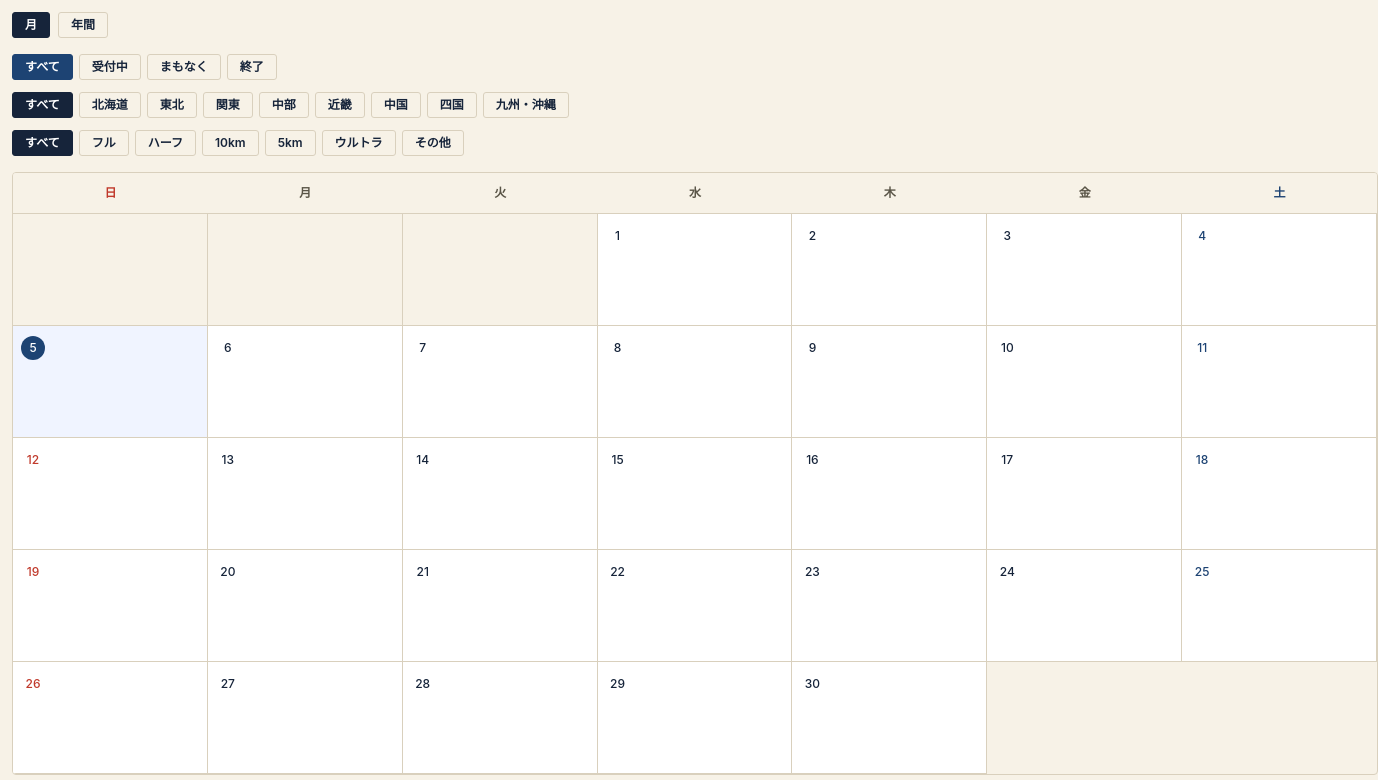
Test case: CalendarView › 年間ビューボタンでYearTimelineに切り替わる
Click the button "年間".
click(83, 25)  # box [58,12,108,38]
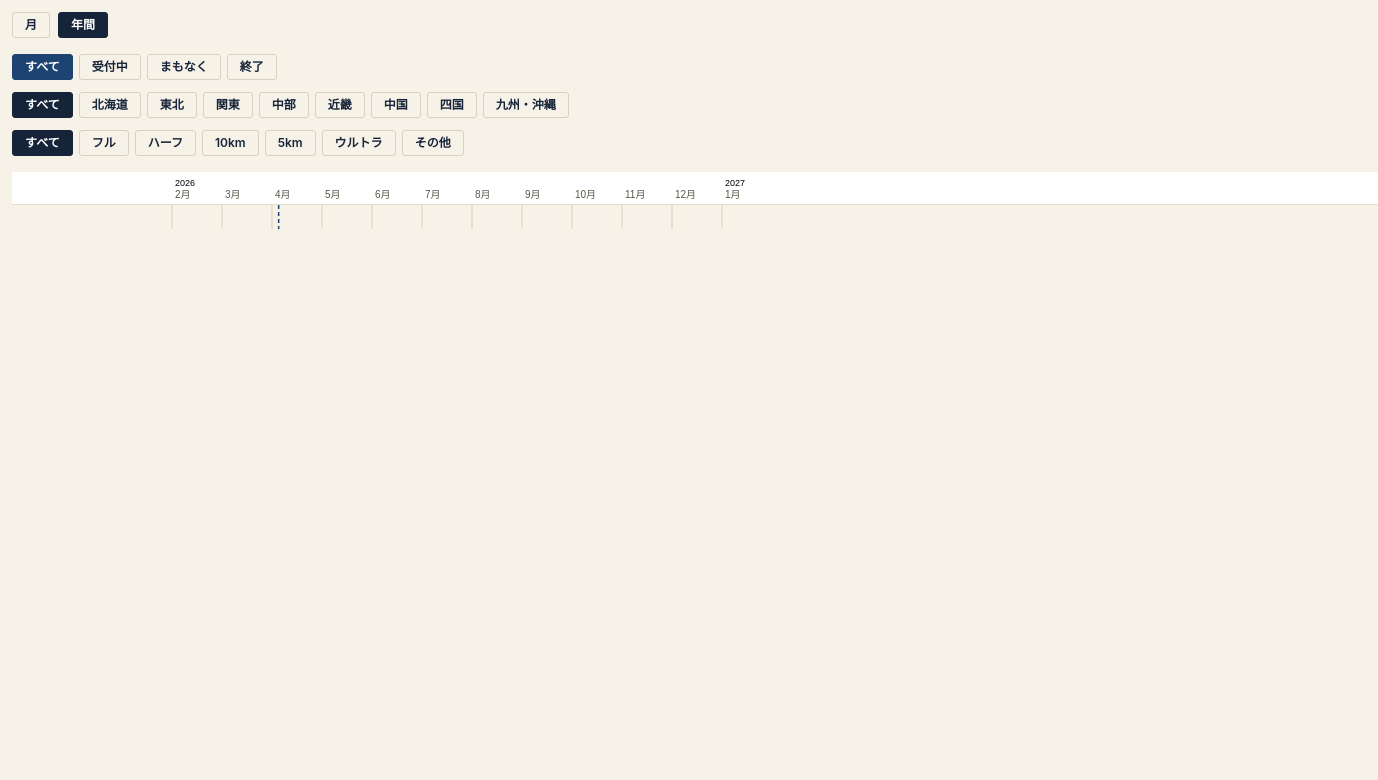
Now the icon "2026 2月 3月 4月 5月 6月 7月 8月 9月 10月 11月 12月 2027 1月" is shown, box [12,172,772,204]
Now the element with class "grid-cols-7" is gone
